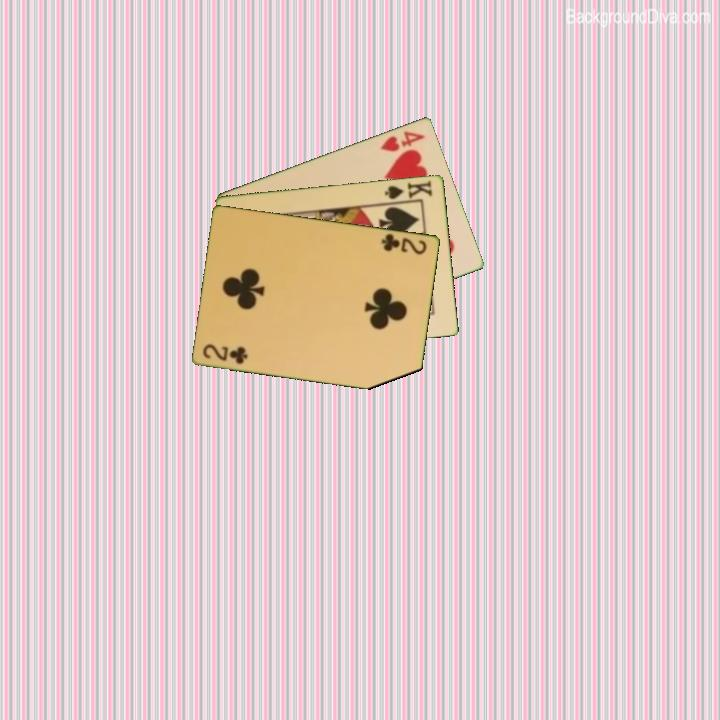2c: (378, 230, 430, 257), (199, 340, 251, 367)
4h: (377, 127, 428, 154)
Ks: (381, 176, 435, 206)
